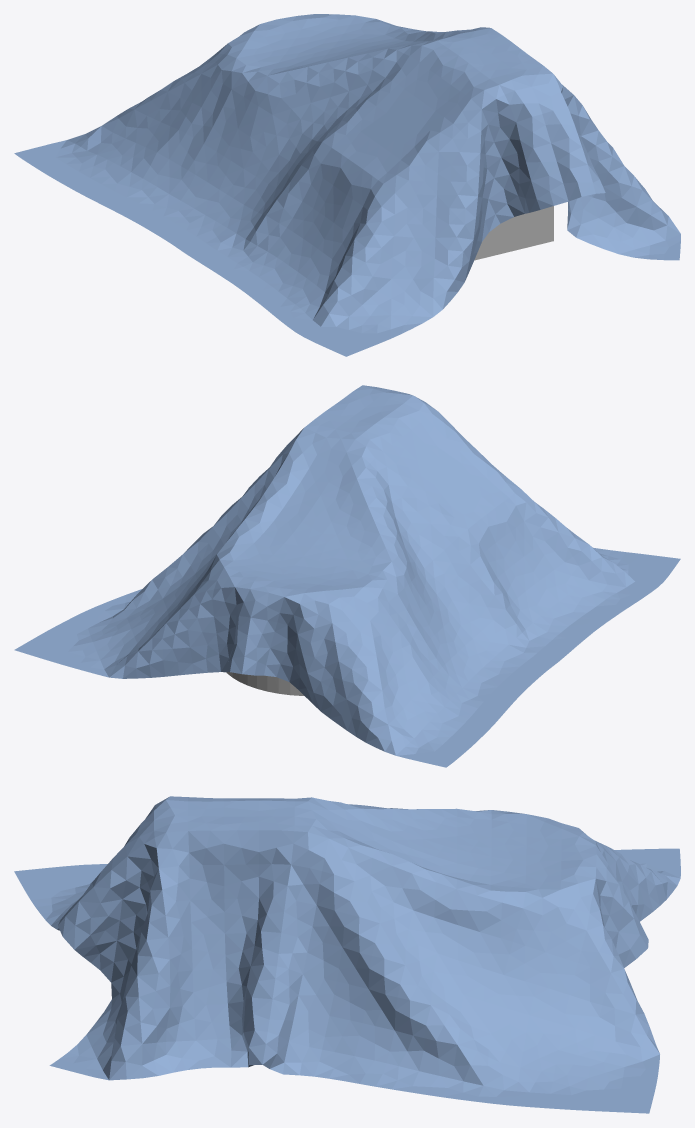
Rendered from level_1.glb.
3 views of the same model, one above another, from view 1: azimuth 30°, elevation 25°; view 2: azimuth 150°, elevation 25°; view 3: azimuth 270°, elevation 25° (orthographic). The views are drawn at different scales.
Parts seen in each view (by area): view 1: world, object.obj; view 2: world, object.obj; view 3: world.
Boxes of the visible parts, x1=… form: world: x1=14, y1=14, x2=680, y2=356; object.obj: x1=474, y1=206, x2=553, y2=260; world: x1=14, y1=385, x2=680, y2=767; object.obj: x1=226, y1=672, x2=303, y2=695; world: x1=14, y1=796, x2=680, y2=1113.
Bounding box in the file's own units: 0.5587 × 0.1907 × 0.5943.
